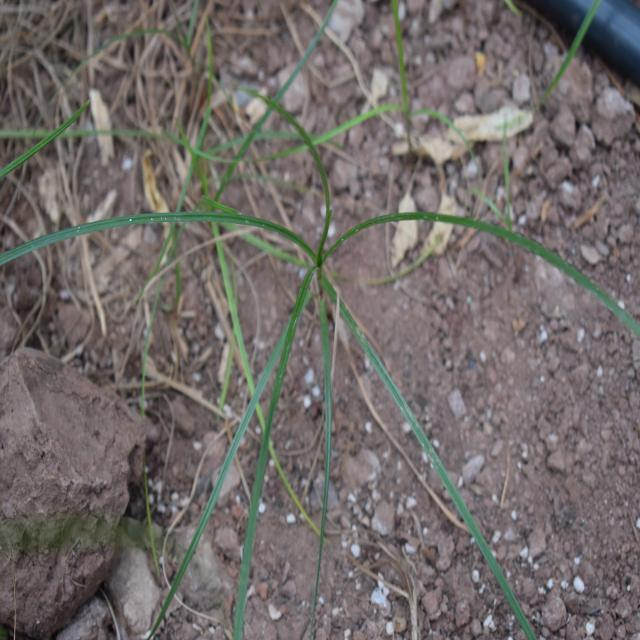sedge: (33, 100, 574, 600)
